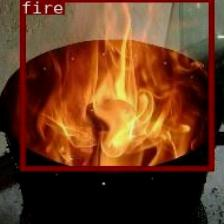fire: (18, 0, 212, 169)
